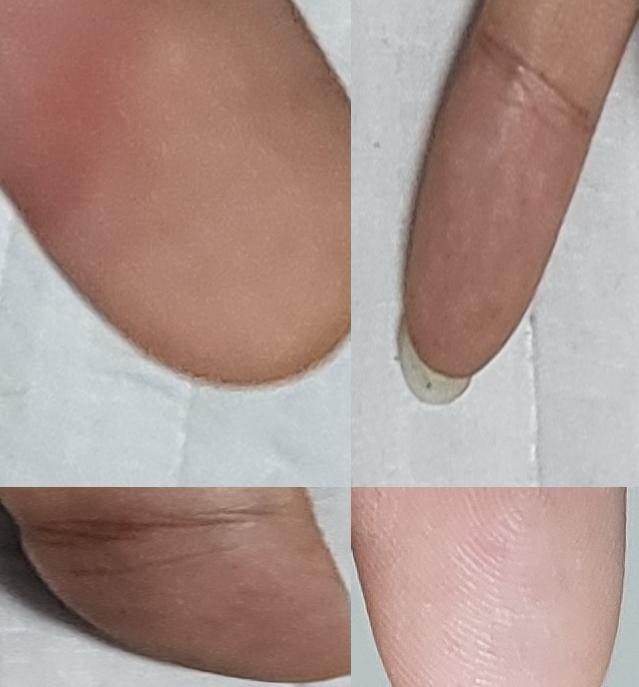Fingerprints: (404, 30, 595, 380), (21, 503, 351, 684), (351, 487, 627, 687)
